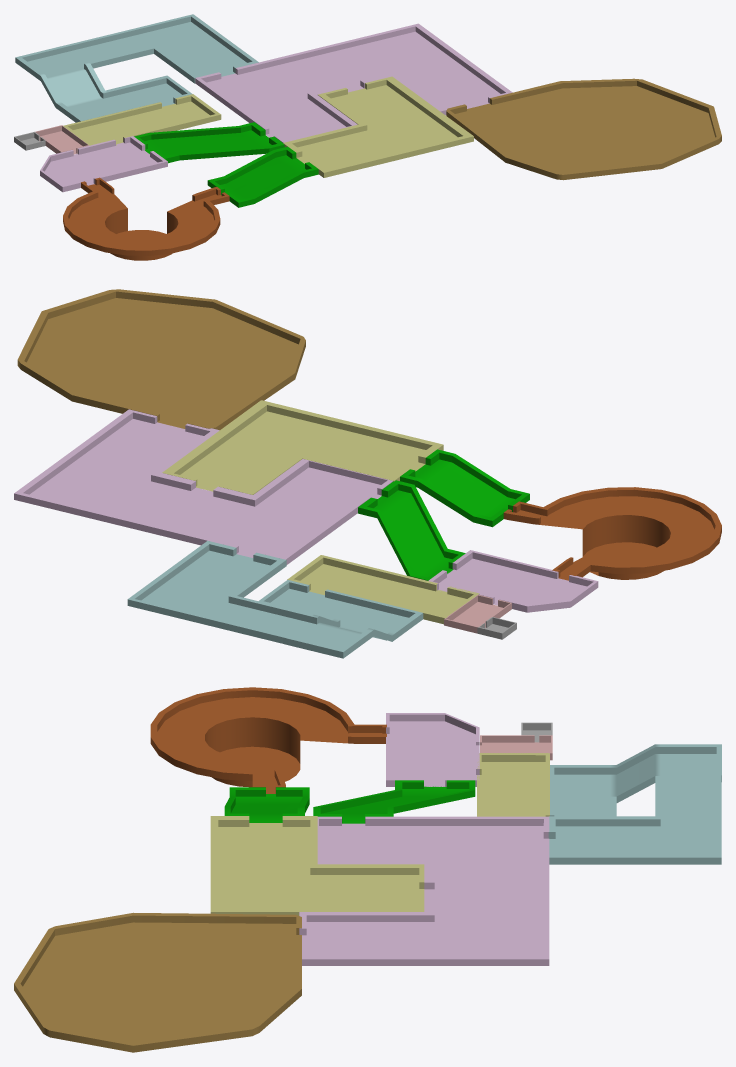
3 renders of one model, top to bottom at view 1: azimuth 30°, elevation 25°; view 2: azimuth 150°, elevation 25°; view 3: azimuth 270°, elevation 25°, orthographic. The views are drawn at different scales.
Visible parts, largest first — view 1: HotCola1; view 2: HotCola1; view 3: HotCola1.
Boxes of the visible parts, left/top/right/bottom form: HotCola1: left=14, top=14, right=721, bottom=260; HotCola1: left=14, top=289, right=721, bottom=658; HotCola1: left=14, top=687, right=721, bottom=1052.
Size of the model in its own units: 831 by 58.32 by 655.
